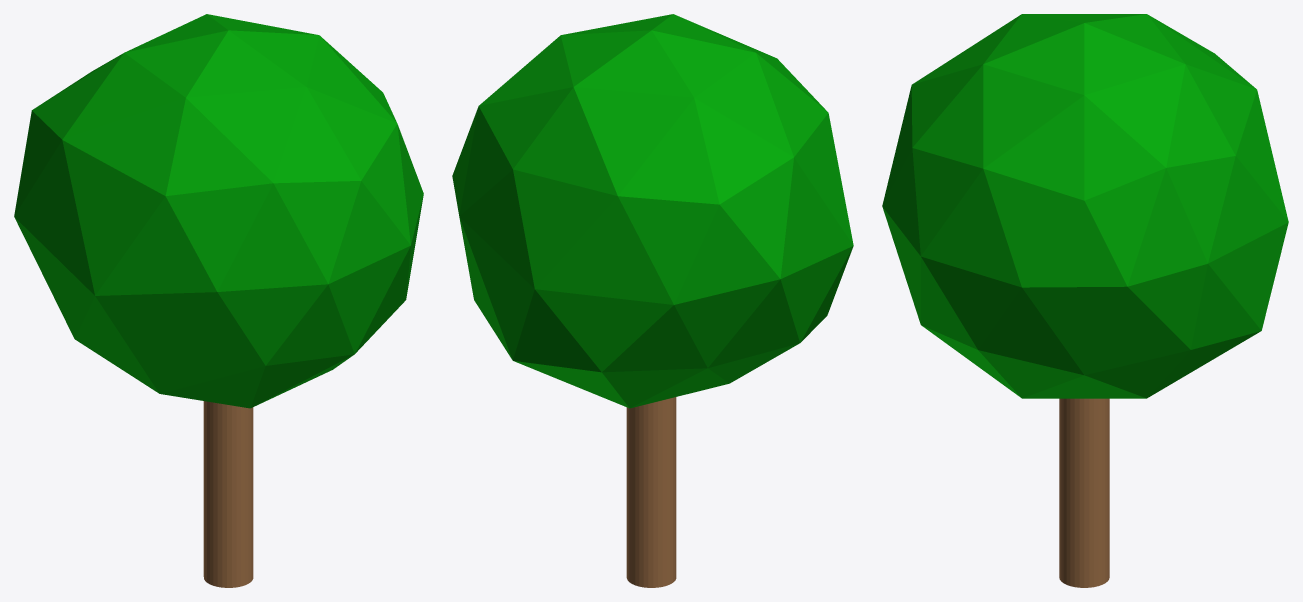
The model's file is agac_1 (1).fbx.
The picture shows the model from 3 angles, left to right: view 1: azimuth 30°, elevation 25°; view 2: azimuth 150°, elevation 25°; view 3: azimuth 270°, elevation 25°; orthographic projection.
Parts seen in each view (by area): view 1: Icosphere, Cylinder; view 2: Icosphere, Cylinder; view 3: Icosphere, Cylinder.
Boxes of the visible parts, x1,y1,x2,y2 form: Icosphere: [14, 14, 423, 408]; Cylinder: [203, 401, 253, 587]; Icosphere: [452, 14, 853, 408]; Cylinder: [626, 397, 676, 587]; Icosphere: [882, 14, 1288, 398]; Cylinder: [1059, 398, 1109, 587].
Size of the model in its own units: 10.03 by 14.99 by 9.96.
